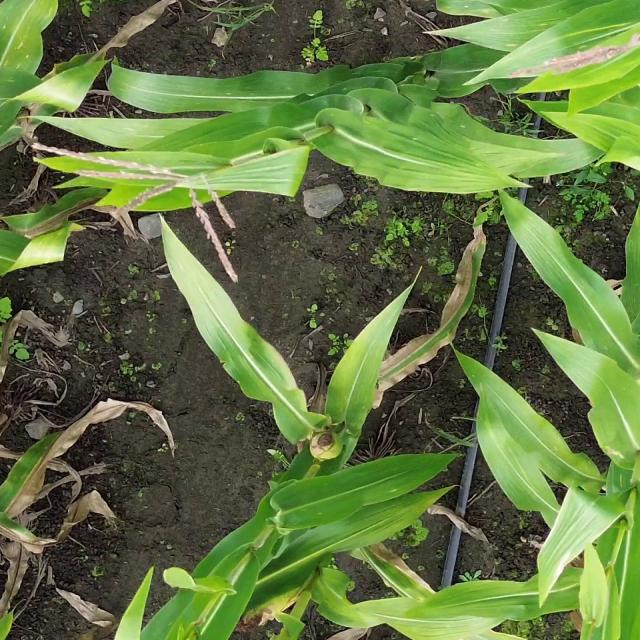gray-leaf-spot: (466, 17, 554, 50)
northern-leaf-blight: (12, 190, 97, 237)
southern-leaf-blight: (1, 19, 41, 72)
